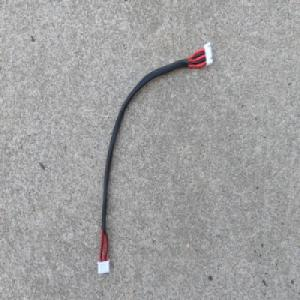Wire: (96, 40, 214, 275)
